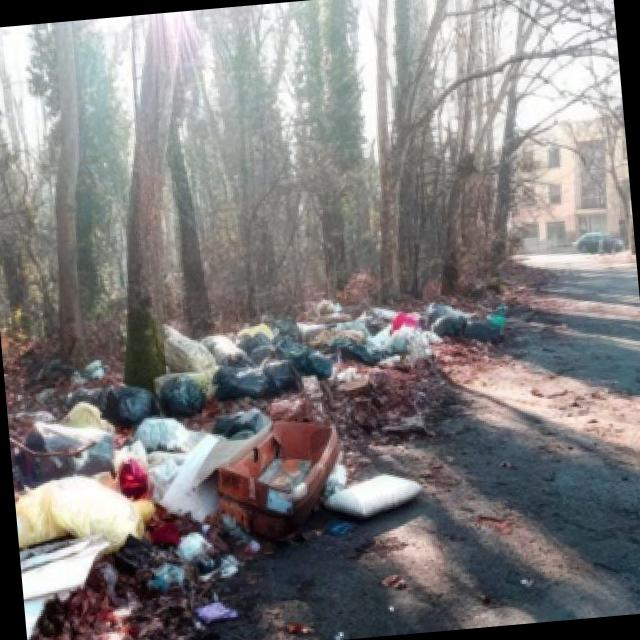high trash: (15, 305, 468, 627)
less trash: (195, 601, 238, 623)
